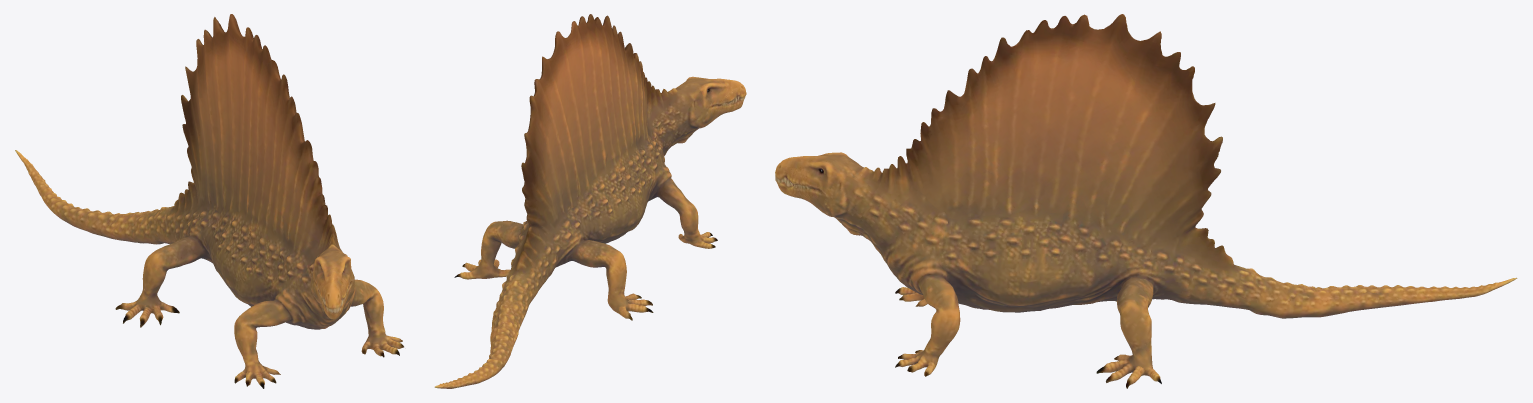
The model's file is MZ4250 - Dimetrodon.glb.
3 renders of one model, left to right at view 1: azimuth 30°, elevation 25°; view 2: azimuth 150°, elevation 25°; view 3: azimuth 270°, elevation 25°, orthographic. The views are drawn at different scales.
Parts seen in each view (by area): view 1: Dimetrodon_low.001; view 2: Dimetrodon_low.001; view 3: Dimetrodon_low.001.
Part boxes in pixels (x1,y1,x2,y2): Dimetrodon_low.001: (15,14,403,388); Dimetrodon_low.001: (434,14,746,388); Dimetrodon_low.001: (775,14,1517,388).
Size of the model in its own units: 3.76 by 4.84 by 10.23.
1 material, 1 textured.
